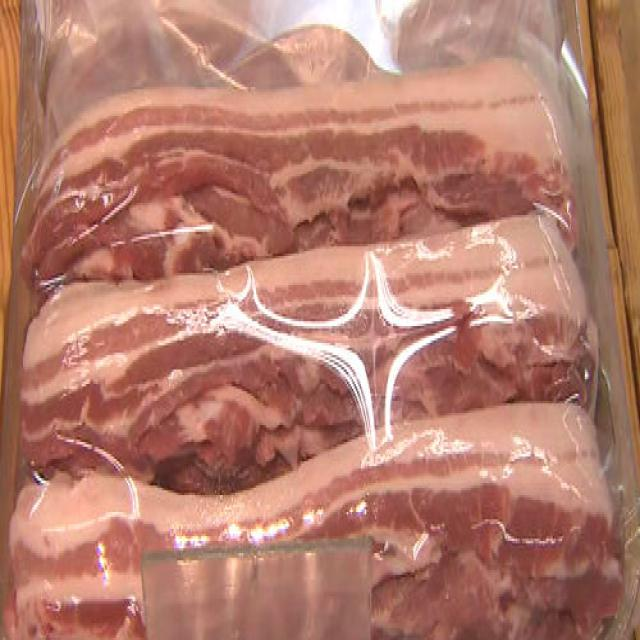pork: (13, 74, 615, 640)
